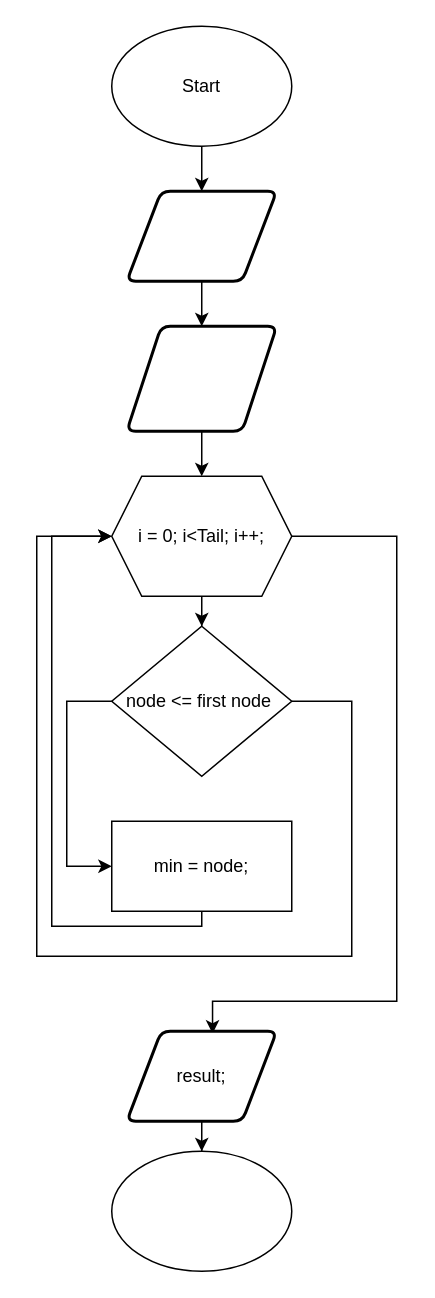
The diagram is 435 pixels wide and 1298 high, and some of its shapes have lost their labels. Each missing label, with the box of its shape:
End: (110, 1150, 292, 1271)
first node;: (124, 324, 278, 432)
List;: (124, 189, 278, 282)
